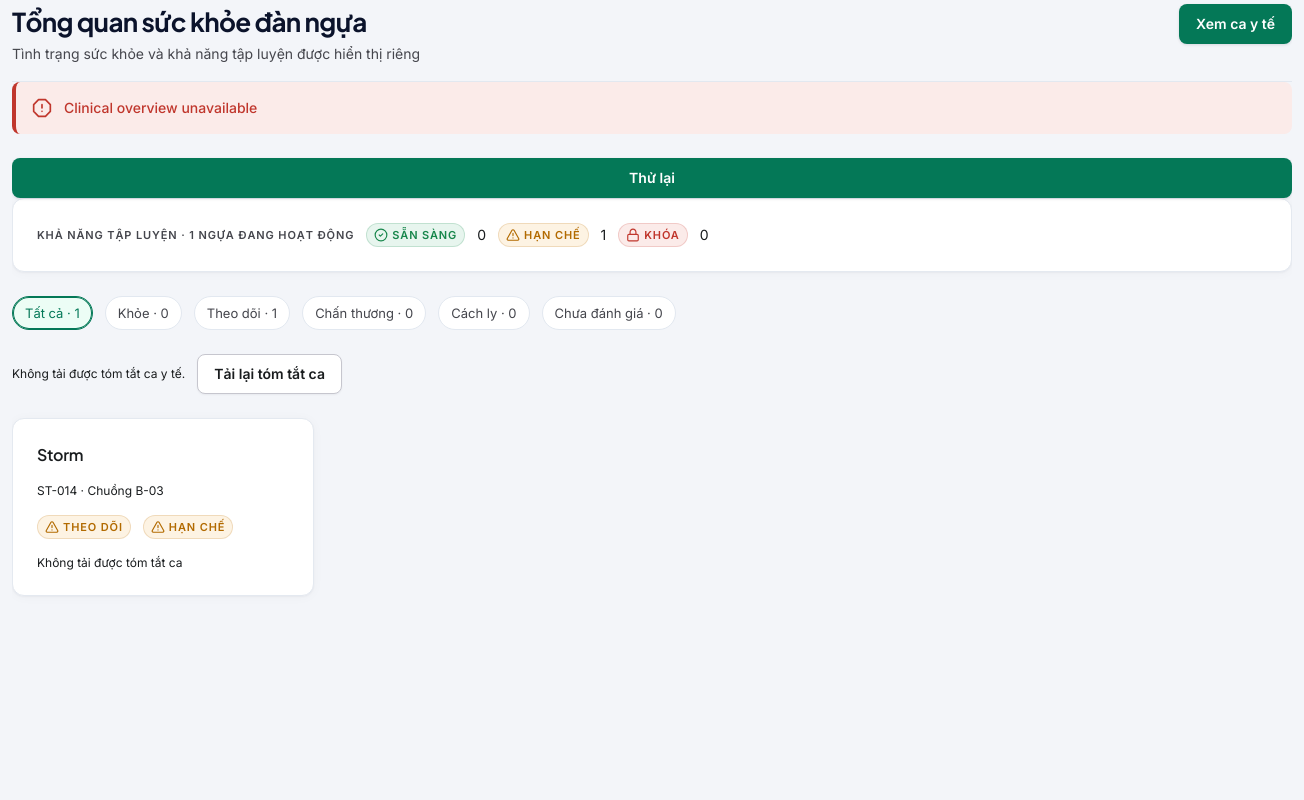
Test case: keeps the working Horse API grid when the separate clinical aggregate is unavailable
Expected: the heading "Storm" is shown, [37,444,83,466]
Expected: the text "Clinical overview unavailable" is shown, [64,100,257,116]
Click the button "Khỏe · 0" at (143, 314), box [105,296,182,330]
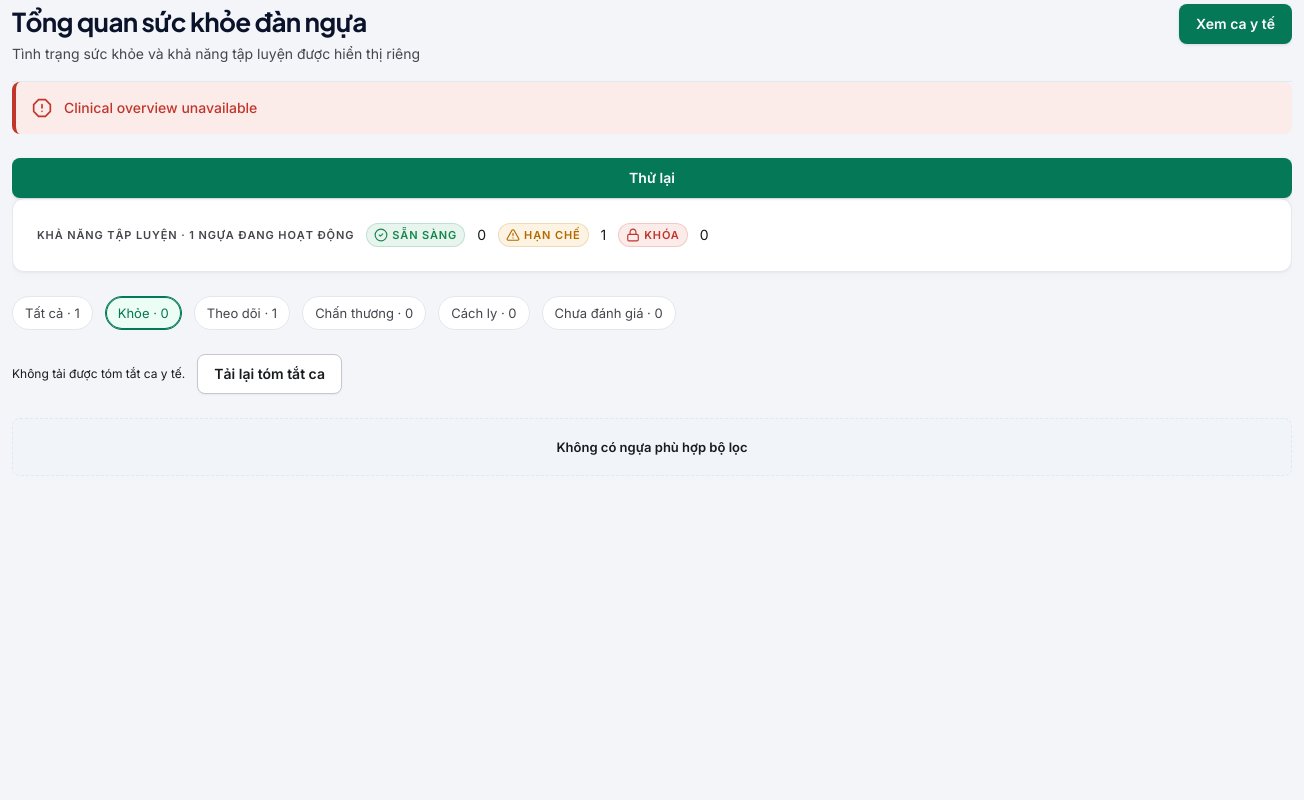
Expected: the text "Không có ngựa phù hợp bộ lọc" is shown, [556,440,748,456]
Expected: the heading "Storm" is gone
